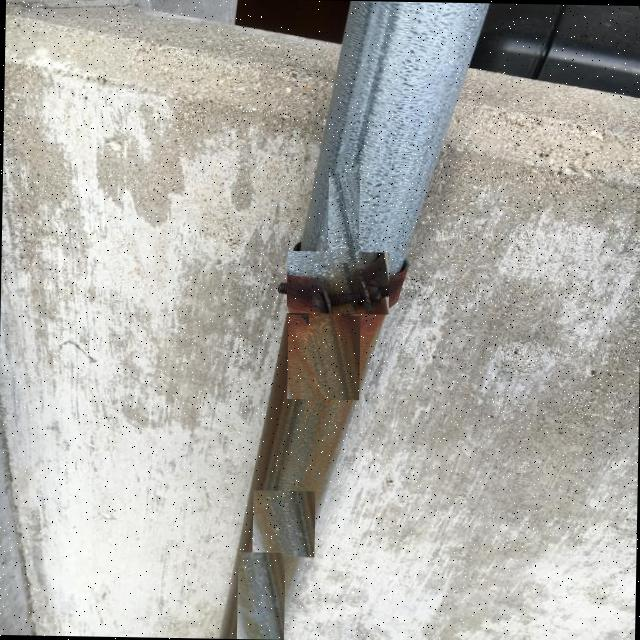Corrosion: (225, 245, 408, 640)
